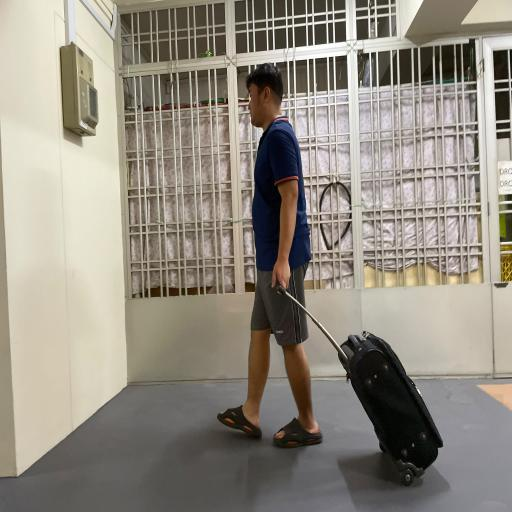person_left: (217, 56, 445, 494)
